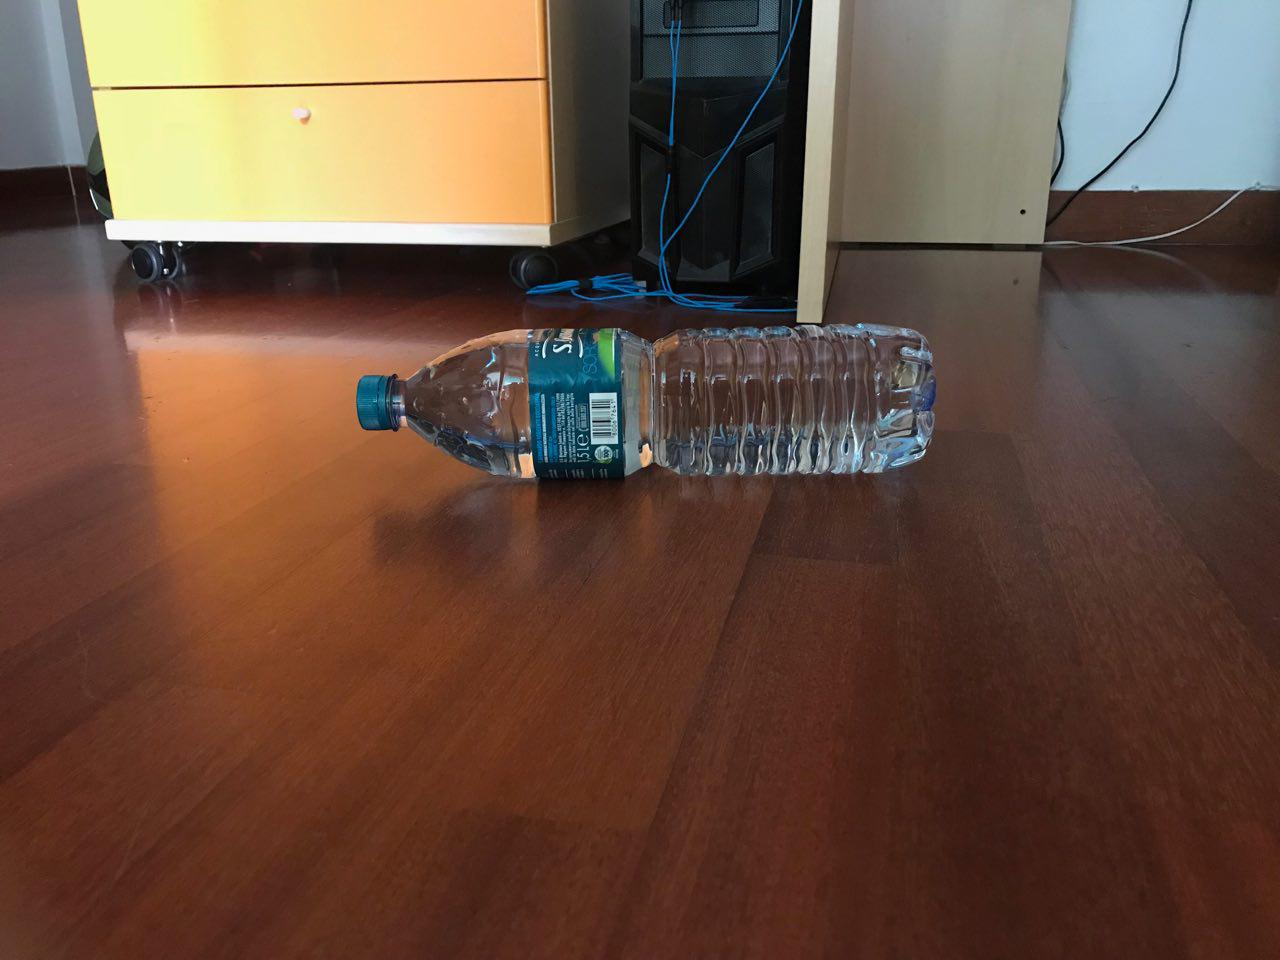san_bernardo: (354, 320, 939, 479)
